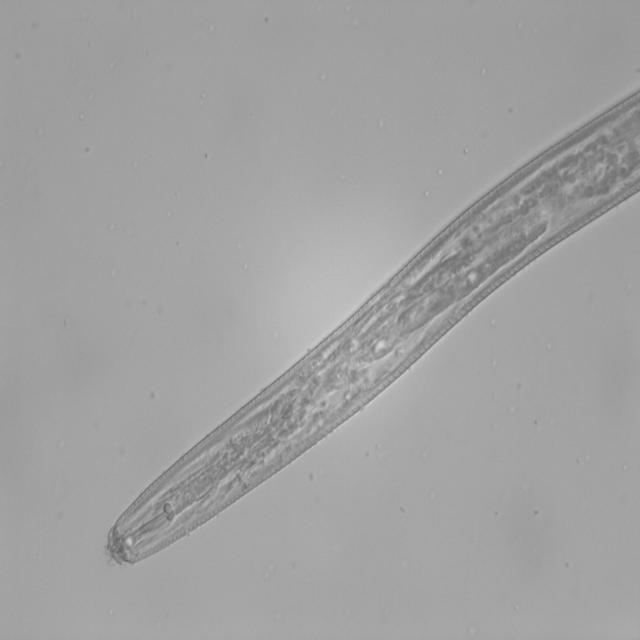Radopholus: (96, 74, 640, 578)
